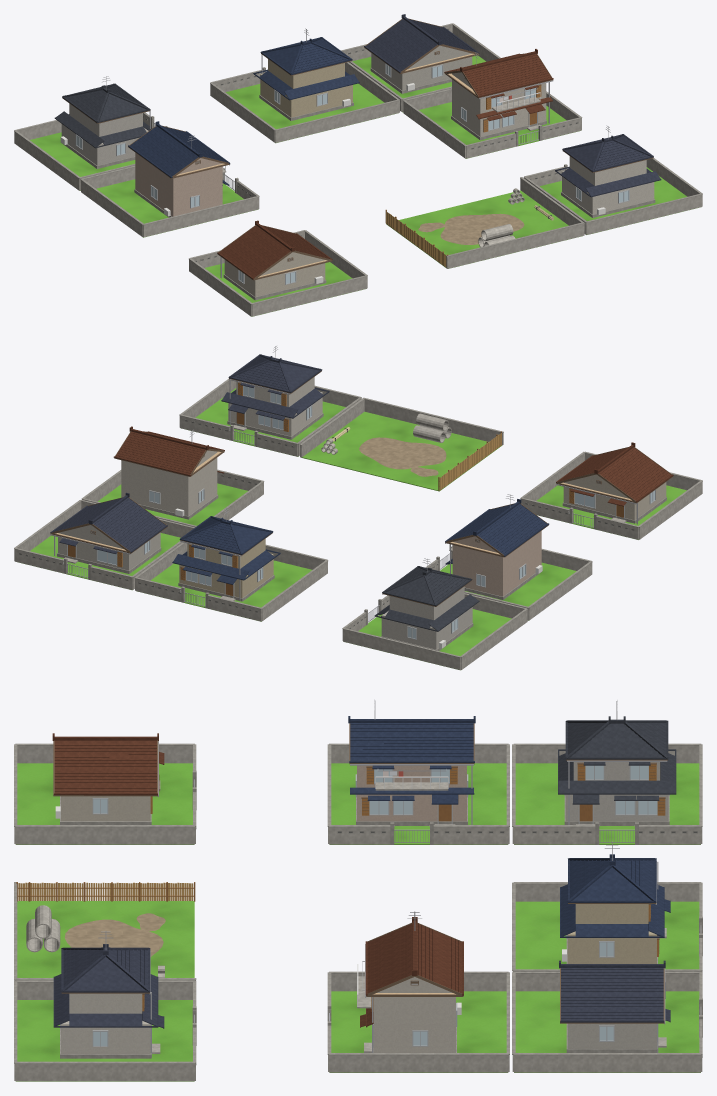
Rendered from neighbours.glb.
3 renders of one model, top to bottom at view 1: azimuth 30°, elevation 25°; view 2: azimuth 150°, elevation 25°; view 3: azimuth 270°, elevation 25°, orthographic. The views are drawn at different scales.
Parts seen in each view (by area): view 1: balcony_east, sandlot_ground, coping_back_x-7.6, course_east_1_1, course_east-back_1_1, course_back_1_1, attic_west, course_west-back_1_1, gf_south-east, gf_back, eave_back_b, attic_east (+8 smaller); view 2: balcony_east, sandlot_ground, coping_back_x-7.6, course_east-back_1_1, course_back_1_1, course_east_1_1, attic_east, attic_west, course_west-back_1_1, gf_west-back, eave_back_b, bare_0 (+9 smaller); view 3: sandlot_ground, balcony_east, course_back_1_1, coping_back_x-7.6, course_east-back_1_1, course_east_1_1, course_west-back_1_1, attic_east, gf_south-east, gf_back, backw_back_glass, board_-x_0 (+10 smaller).
Part boxes in pixels (bbox=[...]): balcony_east: bbox=[14, 25, 702, 316]; sandlot_ground: bbox=[30, 55, 698, 316]; coping_back_x-7.6: bbox=[14, 23, 702, 304]; course_east_1_1: bbox=[217, 49, 553, 279]; course_east-back_1_1: bbox=[364, 14, 661, 197]; course_back_1_1: bbox=[128, 37, 359, 185]; attic_west: bbox=[135, 153, 222, 216]; course_west-back_1_1: bbox=[54, 83, 152, 148]; gf_south-east: bbox=[562, 156, 654, 214]; gf_back: bbox=[260, 59, 352, 117]; eave_back_b: bbox=[62, 18, 653, 280]; attic_east: bbox=[452, 72, 546, 136]; balcony_east: bbox=[14, 380, 702, 670]; sandlot_ground: bbox=[18, 388, 686, 669]; coping_back_x-7.6: bbox=[14, 378, 702, 657]; course_east-back_1_1: bbox=[50, 354, 329, 553]; course_back_1_1: bbox=[172, 499, 549, 584]; course_east_1_1: bbox=[113, 426, 673, 506]; attic_east: bbox=[121, 450, 217, 516]; attic_west: bbox=[452, 531, 541, 596]; course_west-back_1_1: bbox=[374, 566, 479, 631]; gf_west-back: bbox=[381, 586, 472, 649]; eave_back_b: bbox=[50, 371, 673, 618]; bare_0: bbox=[359, 437, 446, 476]; sandlot_ground: bbox=[16, 763, 700, 1081]; balcony_east: bbox=[14, 746, 702, 1081]; course_back_1_1: bbox=[348, 716, 670, 937]; coping_back_x-7.6: bbox=[14, 743, 702, 1063]; course_east-back_1_1: bbox=[53, 944, 670, 1028]; course_east_1_1: bbox=[52, 733, 463, 1027]; course_west-back_1_1: bbox=[558, 716, 676, 804]; attic_east: bbox=[373, 977, 455, 1052]; gf_south-east: bbox=[61, 993, 150, 1053]; gf_back: bbox=[567, 904, 656, 963]; backw_back_glass: bbox=[93, 765, 657, 1045]; board_-x_0: bbox=[18, 882, 193, 900].
Bounding box in the file's own units: 54.95 × 8.7 × 50.07.
32 materials, 19 textured.
